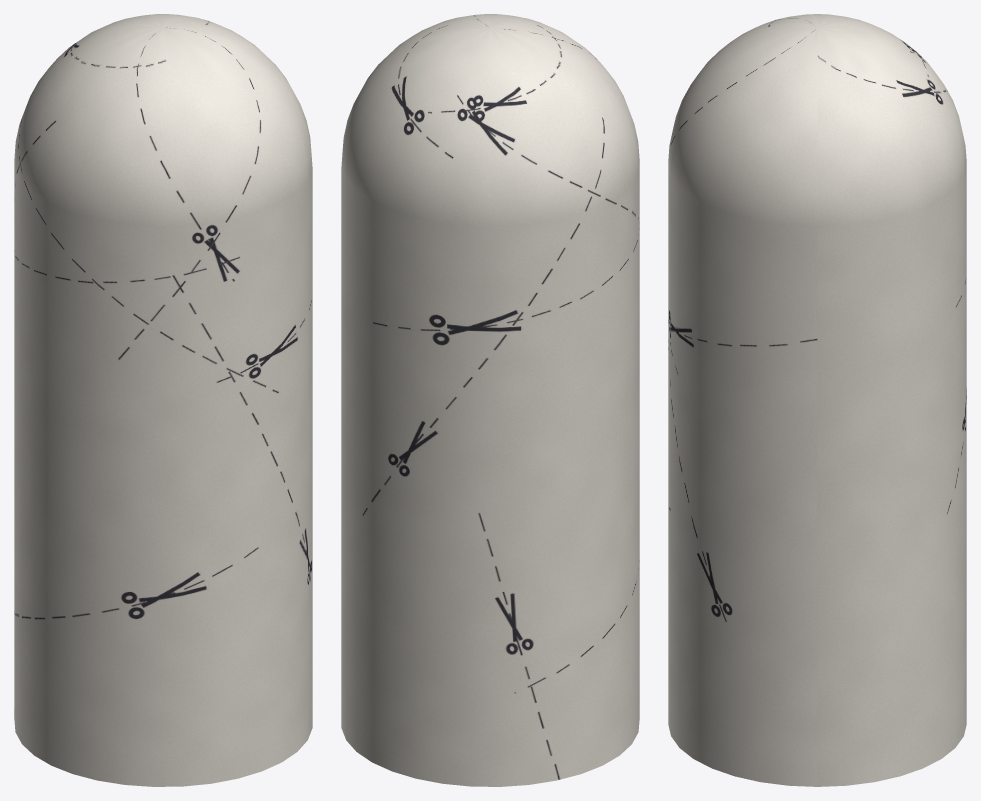
File: mannequinCut.fbx
The picture shows the model from 3 angles, left to right: view 1: azimuth 30°, elevation 25°; view 2: azimuth 150°, elevation 25°; view 3: azimuth 270°, elevation 25°; orthographic projection.
Parts seen in each view (by area): view 1: mannequin; view 2: mannequin; view 3: mannequin.
Part boxes in pixels (<box>): mannequin: <box>14,14,312,786</box>; mannequin: <box>341,14,639,786</box>; mannequin: <box>668,14,966,786</box>.
Bounding box in the file's own units: 70 × 180 × 70.
Materials: 1 (1 with a texture image).
